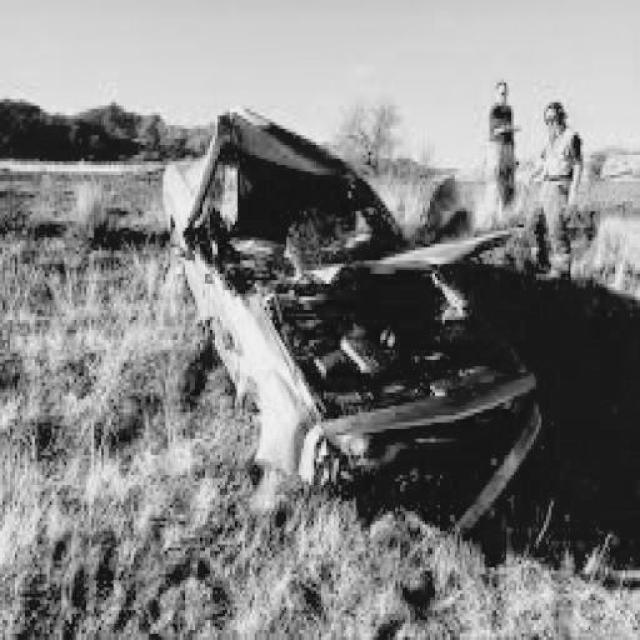car damage: (171, 114, 548, 485)
